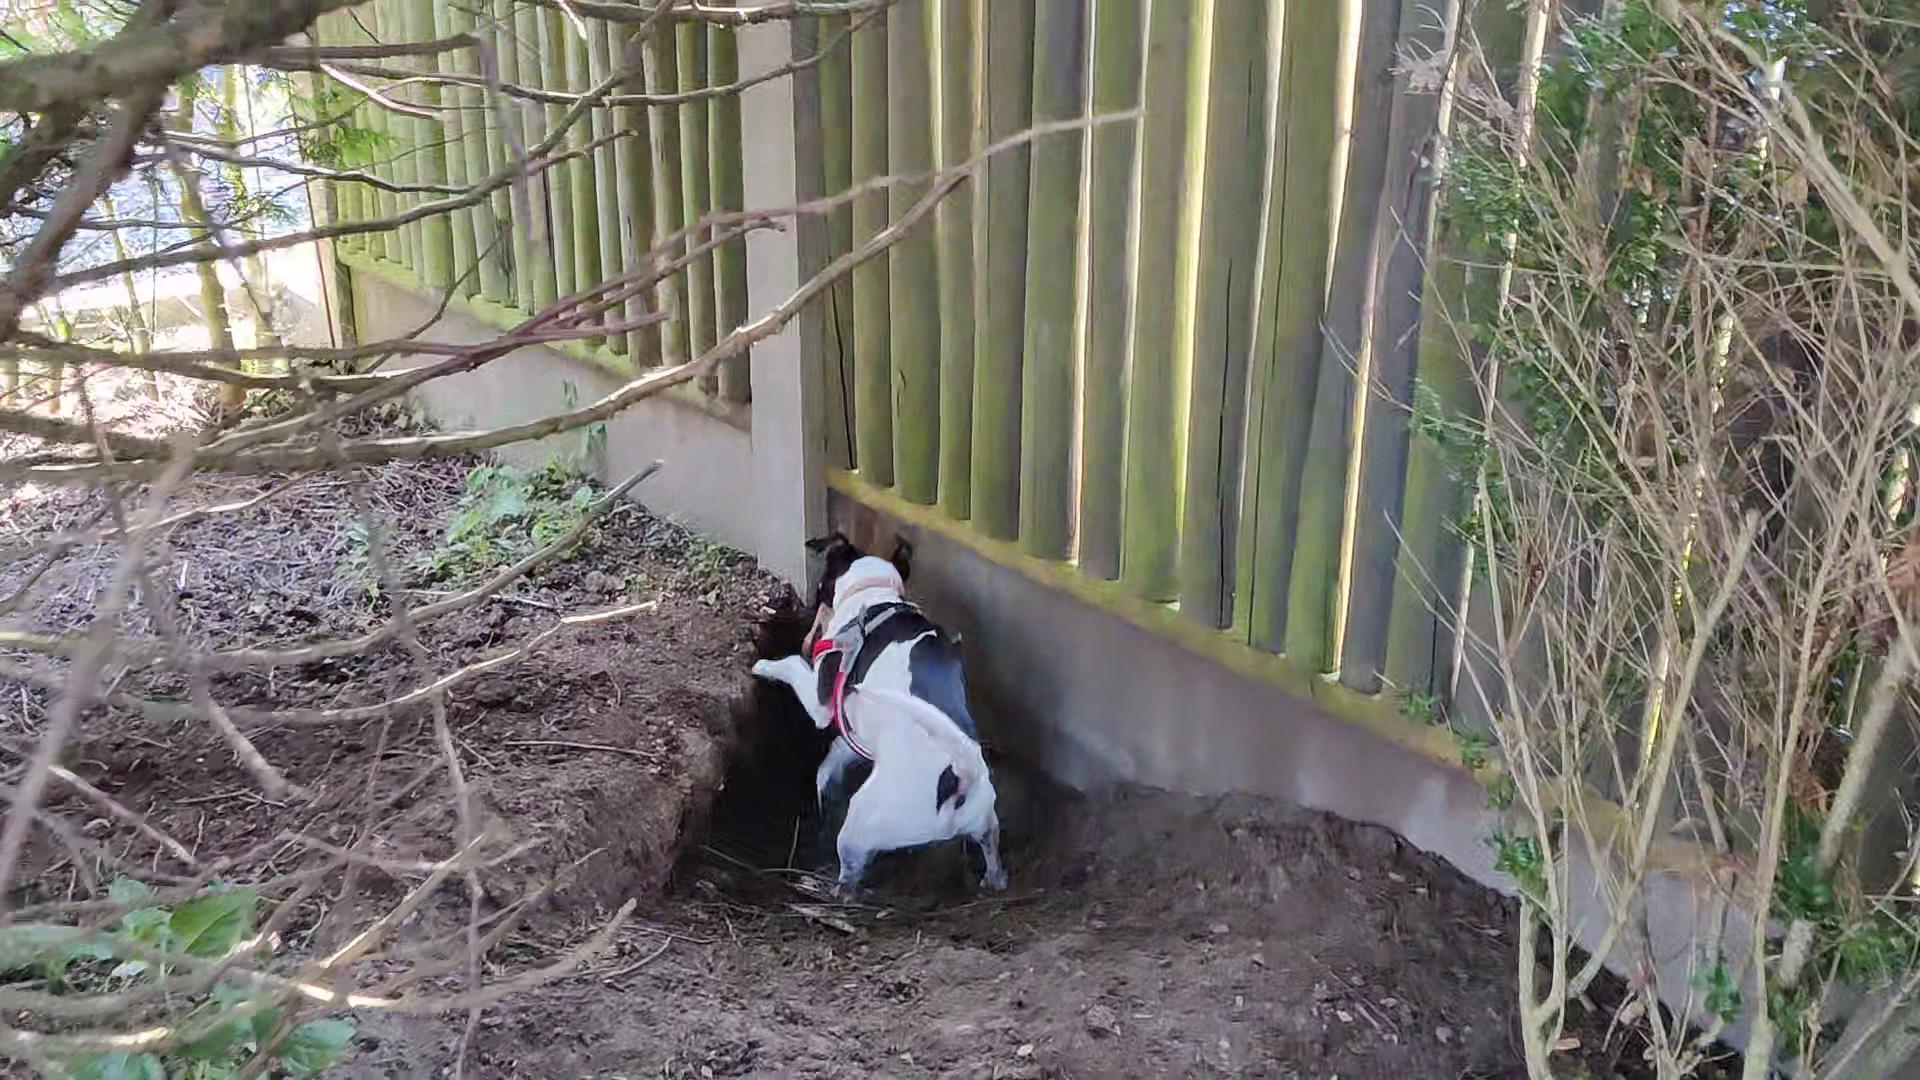Dog: (717, 509, 1034, 916)
